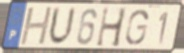1: (157, 10, 169, 45)
6: (76, 8, 98, 47)
G: (124, 8, 150, 46)
H: (94, 5, 129, 49), (18, 5, 54, 47)
U: (47, 5, 78, 48)
